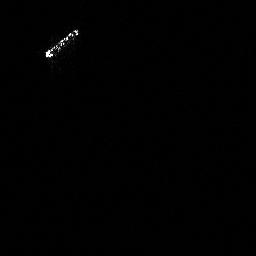ship: (41, 24, 83, 61)
